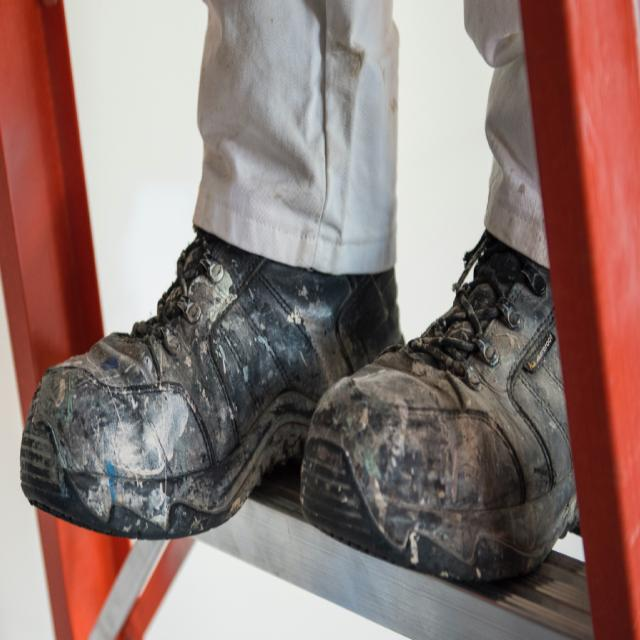shoes: (17, 212, 416, 542), (296, 220, 596, 579)
